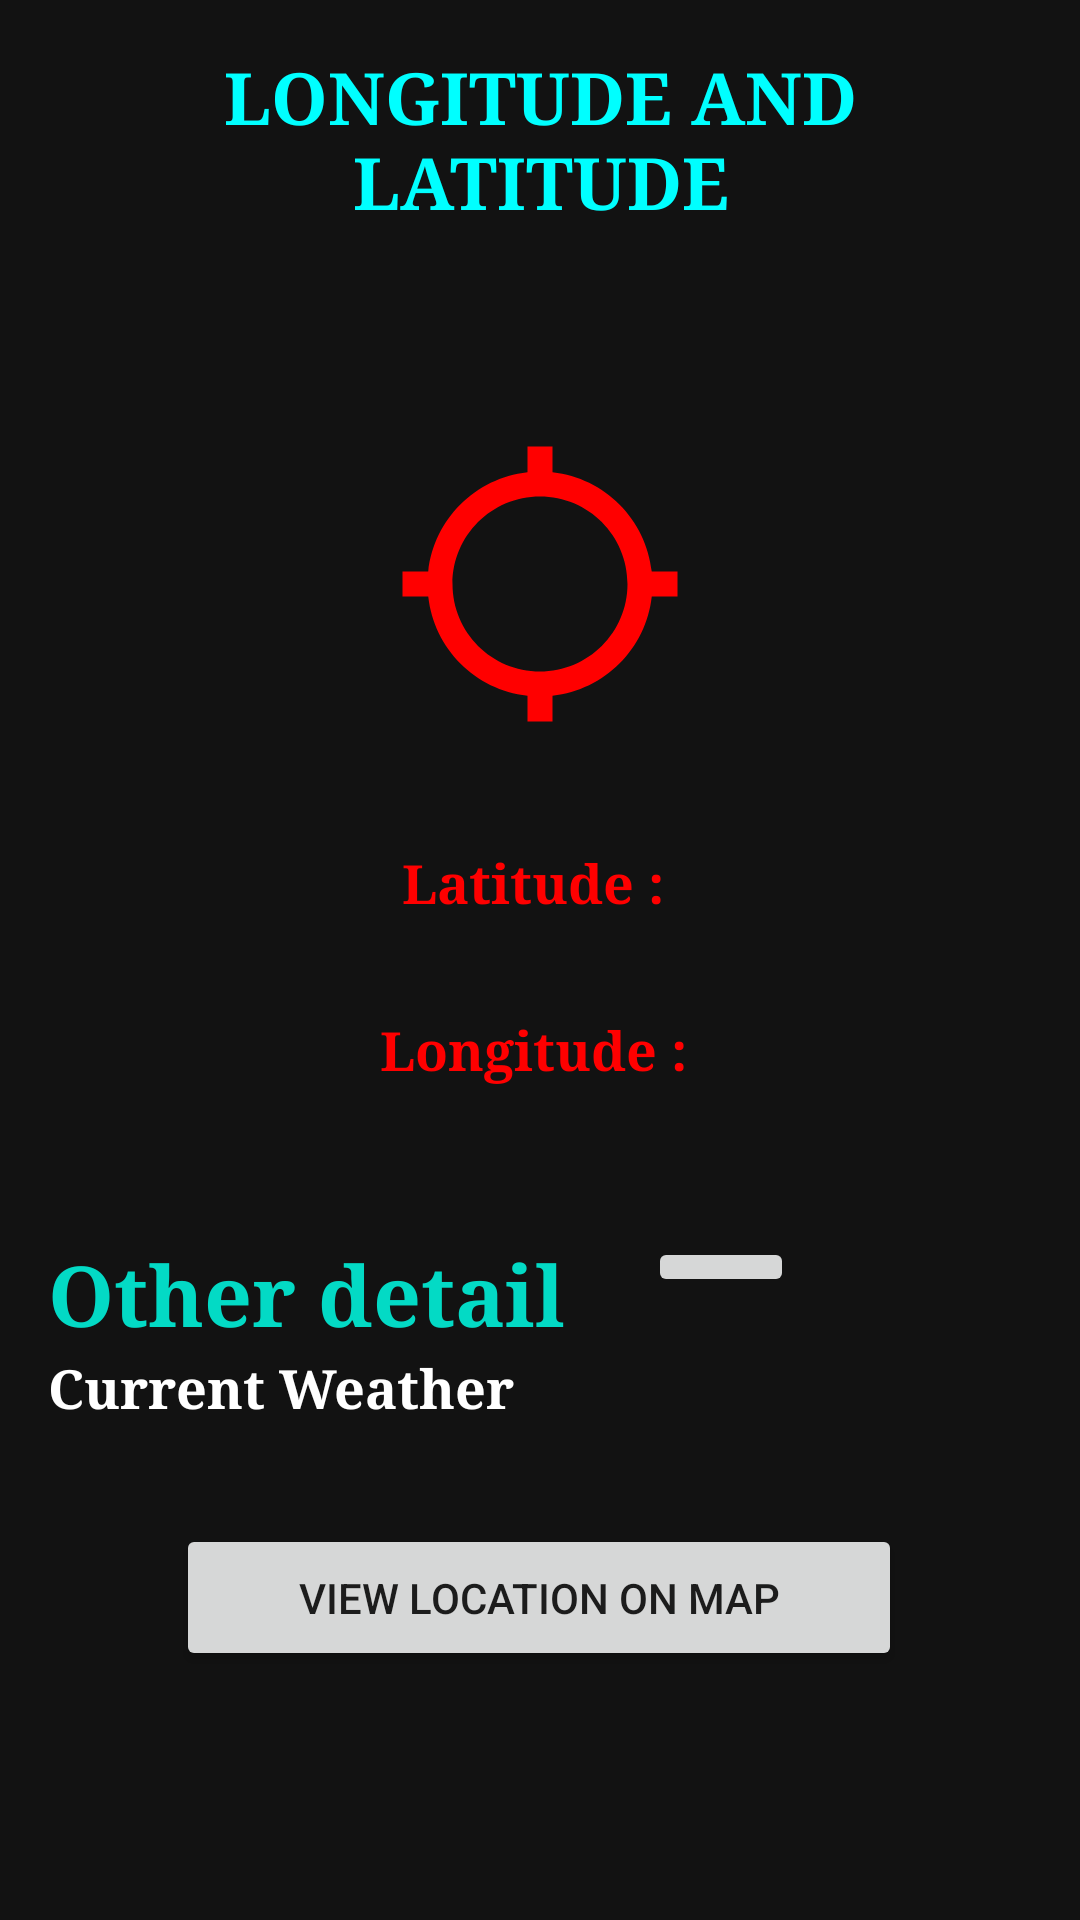

Where to tap for icons on this 1080x1920 app screen, as point (x, y):
location searching: point (540, 584)
